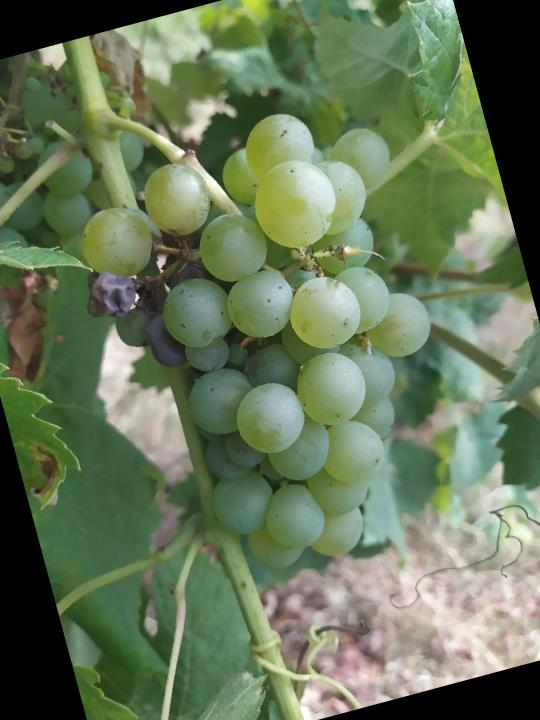grape: (56, 84, 490, 603)
